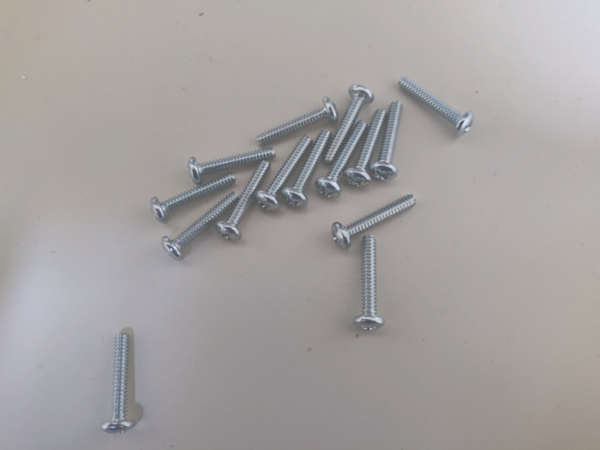longscrew: (161, 190, 238, 262), (397, 75, 475, 132), (152, 170, 239, 221), (333, 194, 417, 246), (253, 95, 334, 147), (316, 120, 368, 199), (217, 161, 271, 236), (256, 137, 310, 211), (324, 79, 372, 162), (284, 128, 332, 211), (185, 142, 277, 182), (355, 232, 389, 336), (102, 333, 134, 435), (347, 107, 385, 187), (374, 100, 410, 181)
